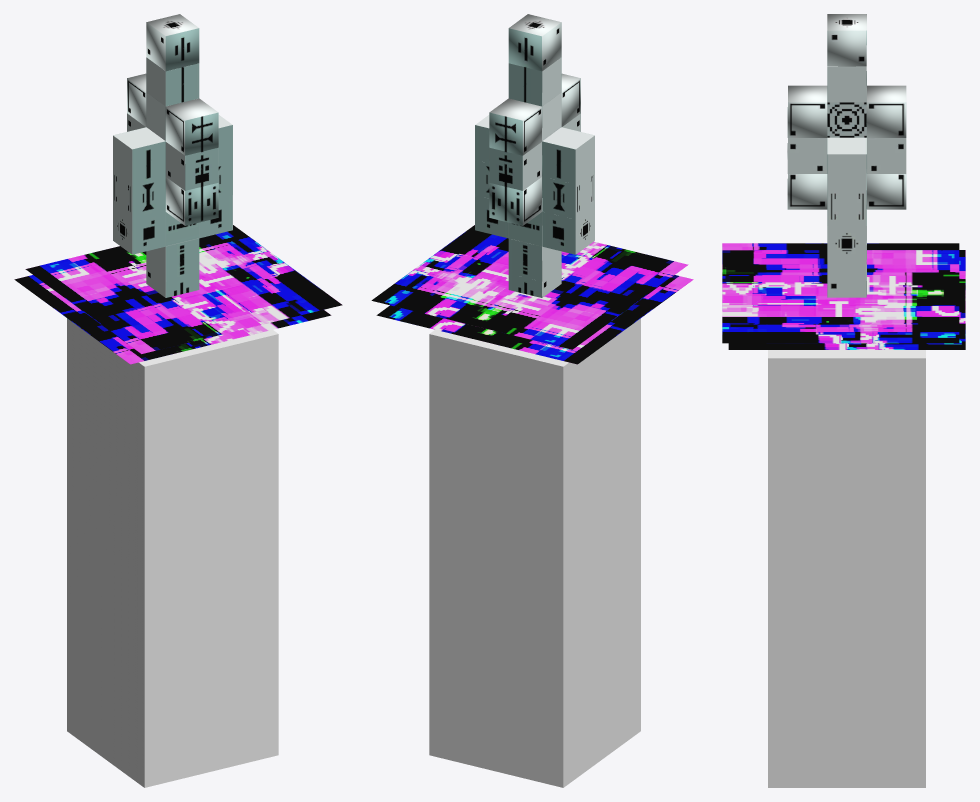
File: Monolith_LEGACY.glb
3 views of the same model, side by side, from view 1: azimuth 30°, elevation 25°; view 2: azimuth 150°, elevation 25°; view 3: azimuth 270°, elevation 25° (orthographic).
Parts seen in each view (by area): view 1: Cube, Cube_Monolith (×15), Quad, GlitchEffect; view 2: Cube, Cube_Monolith (×15), Quad, GlitchEffect; view 3: Cube, Quad, Cube_Monolith (×14), GlitchEffect.
Boxes of the visible parts, x1,y1,x2,y2 form: Cube: (67,318,278,787); Cube_Monolith (×15): (113,14,232,297); Quad: (25,225,342,354); GlitchEffect: (14,275,331,364); Cube: (429,318,640,787); Cube_Monolith (×15): (475,14,594,297); Quad: (371,225,688,349); GlitchEffect: (376,275,693,364); Cube: (768,350,925,787); Quad: (722,243,959,343); Cube_Monolith (×14): (787,14,906,297); GlitchEffect: (728,250,965,349).
Bounding box in the file's own units: 3.12 × 10.23 × 3.08.
6 materials, 4 textured.
